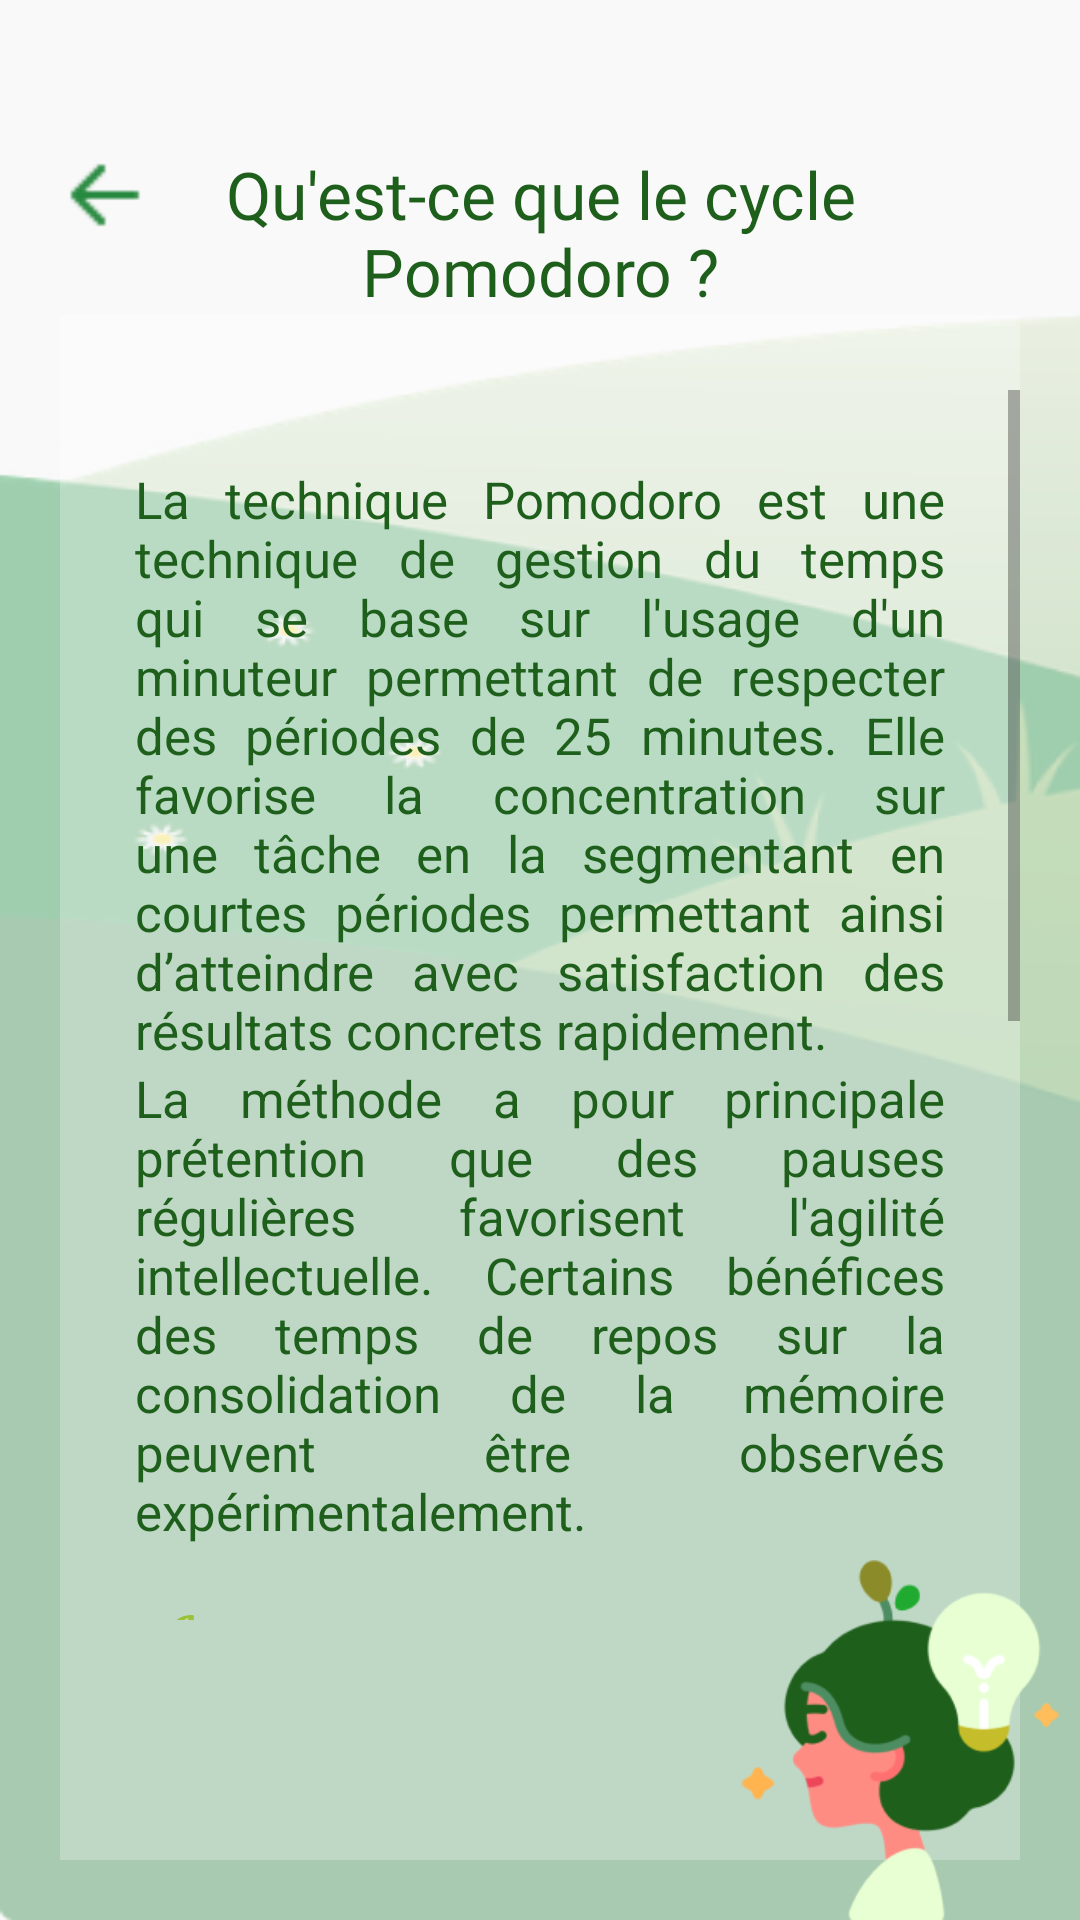

Named icons in this screenshot (1080×1920) and their centers, (x,y):
back: (105,195)
